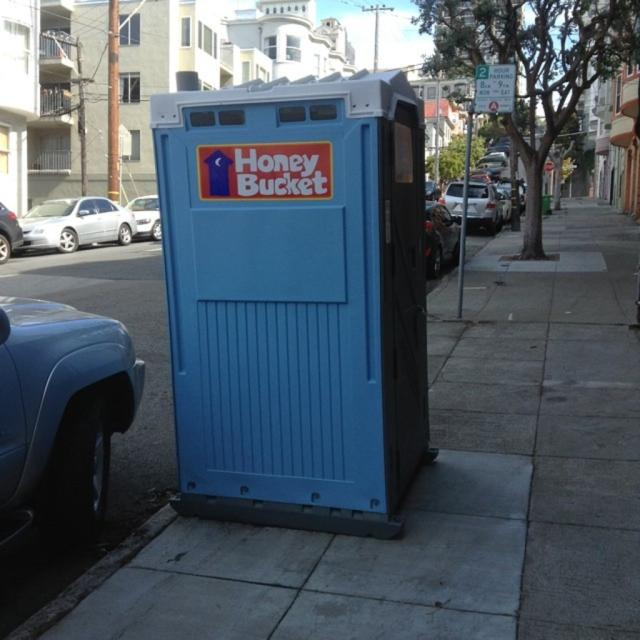Car: (0, 299, 144, 542), (26, 205, 135, 252), (424, 200, 463, 277), (449, 182, 498, 225), (0, 204, 23, 265), (131, 200, 165, 236)
